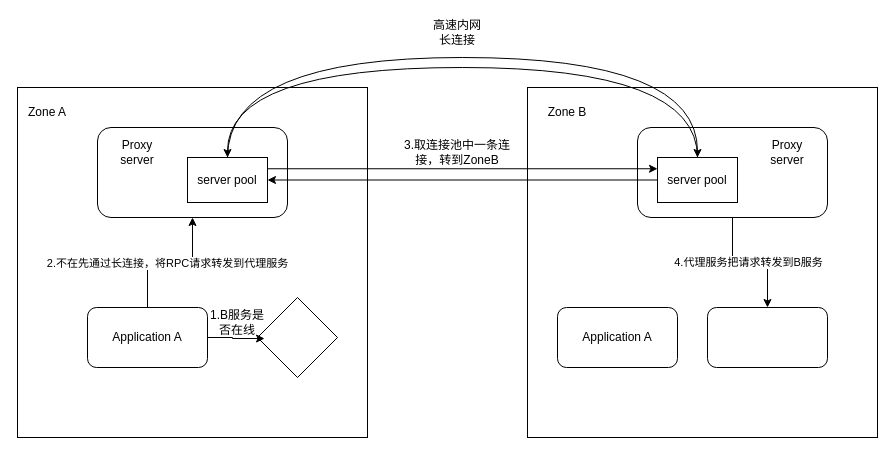
This 895x455 diagram has some shape labels left out. The box of each missing label's shape, as (x1, y1, x2, y2) in pixels:
Application B: (706, 306, 828, 368)
Application B是否在线？: (256, 296, 338, 378)
